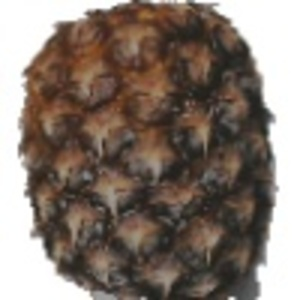abacaxi: (14, 2, 285, 298)
